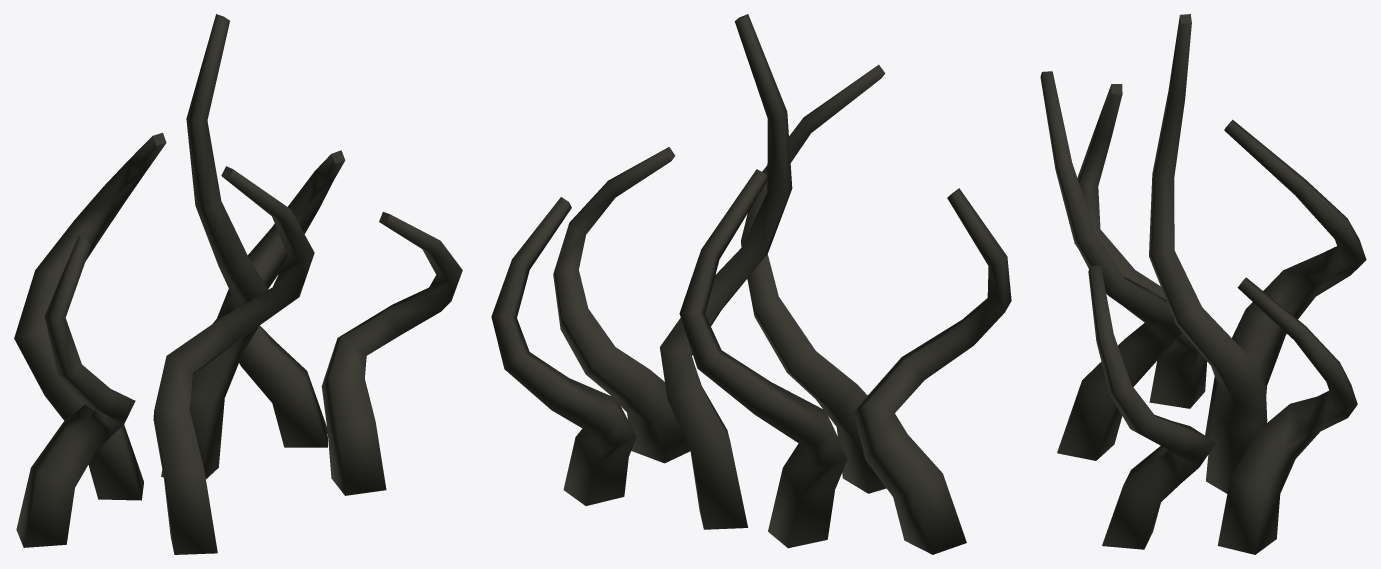
File: Grass.glb
3 renders of one model, left to right at view 1: azimuth 30°, elevation 25°; view 2: azimuth 150°, elevation 25°; view 3: azimuth 270°, elevation 25°, orthographic. The views are drawn at different scales.
Visible parts, largest first — view 1: Grass_3; view 2: Grass_3; view 3: Grass_3.
Boxes of the visible parts, <box> form: Grass_3: <box>14,14,462,554</box>; Grass_3: <box>491,14,1011,554</box>; Grass_3: <box>1040,14,1366,554</box>.
Size of the model in its own units: 2.23 by 2.38 by 1.49.
1 material, 1 textured.
